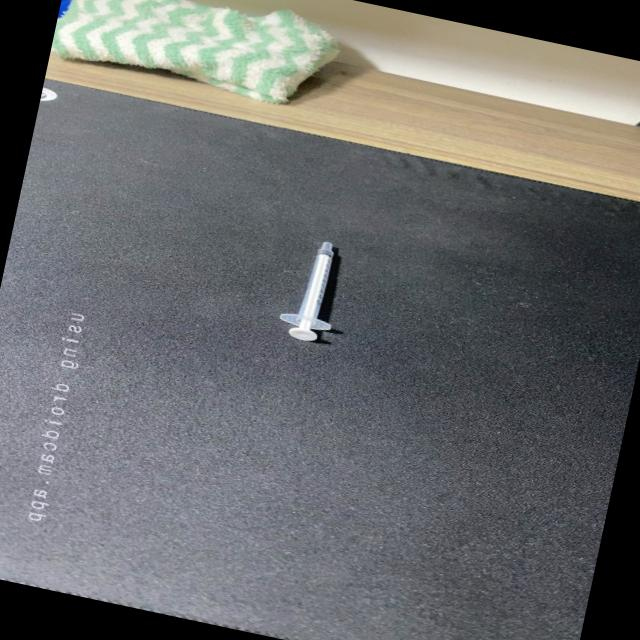syringe: (268, 228, 362, 351)
